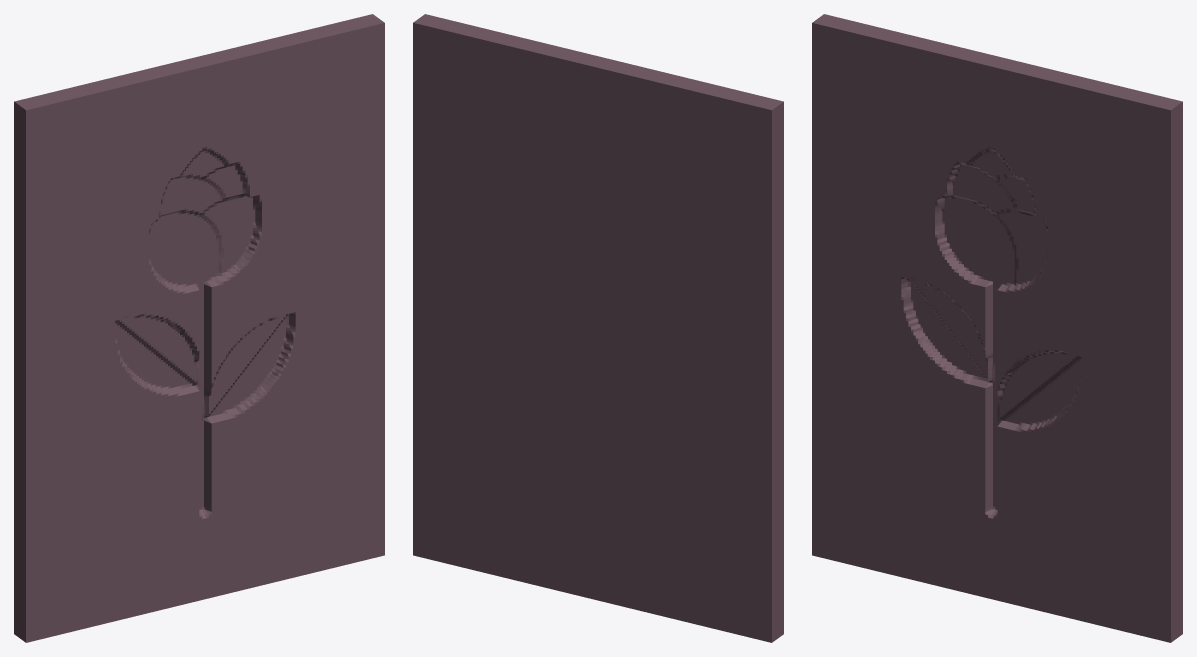
File: rose.glb
3 views of the same model, side by side, from view 1: azimuth 30°, elevation 25°; view 2: azimuth 150°, elevation 25°; view 3: azimuth 330°, elevation 25° (orthographic).
Visible parts, largest first — view 1: Plane.032; view 2: Plane.032; view 3: Plane.032.
Boxes of the visible parts, <box> form: Plane.032: <box>14,14,384,642</box>; Plane.032: <box>413,14,783,642</box>; Plane.032: <box>812,14,1182,642</box>.
Size of the model in its own units: 4.1 by 5.82 by 0.2373.
